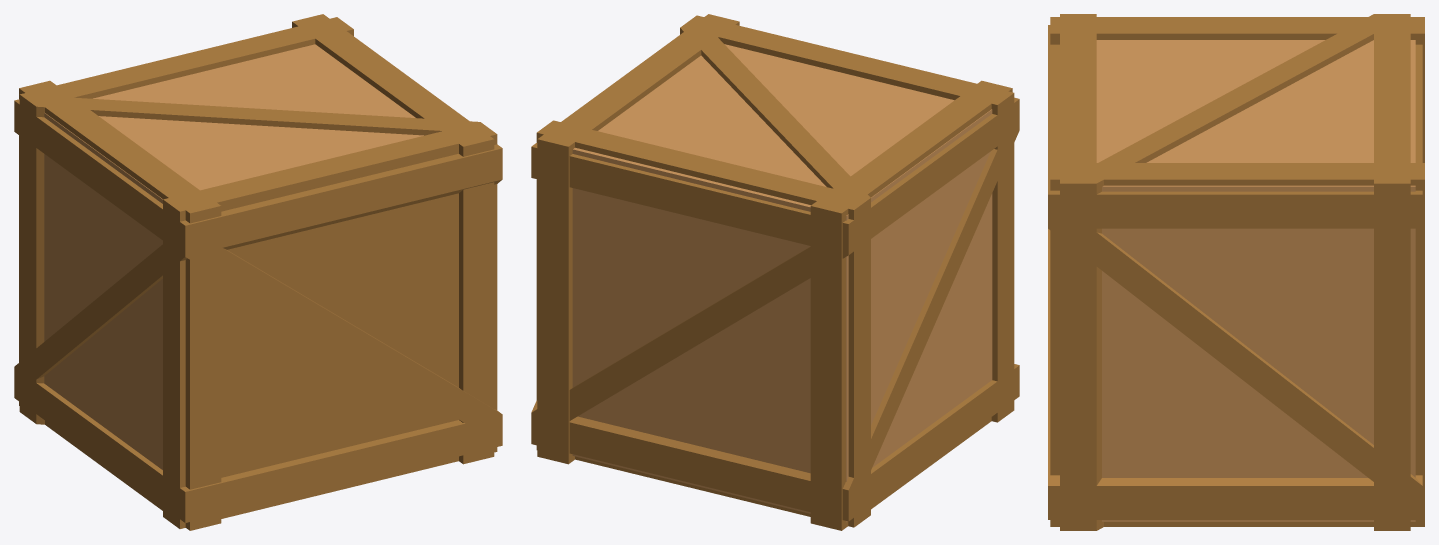
Rendered from Boxx.fbx.
The picture shows the model from 3 angles, left to right: view 1: azimuth 30°, elevation 25°; view 2: azimuth 150°, elevation 25°; view 3: azimuth 270°, elevation 25°; orthographic projection. The views are drawn at different scales.
Visible parts, largest first — view 1: Box; view 2: Box; view 3: Box.
Part boxes in pixels (x1,y1,x2,y2): Box: (14, 14, 502, 530); Box: (531, 14, 1019, 530); Box: (1048, 14, 1424, 530).
Bounding box in the file's own units: 9804 × 9368 × 9209.
